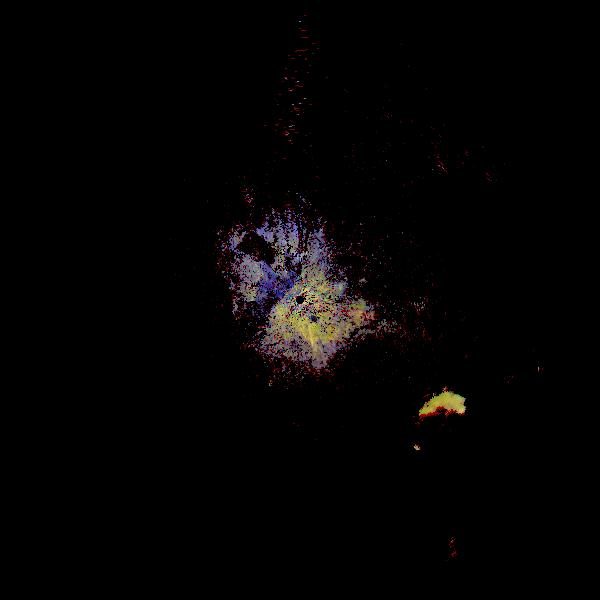roost: (241, 314, 337, 410), (408, 390, 486, 468)
